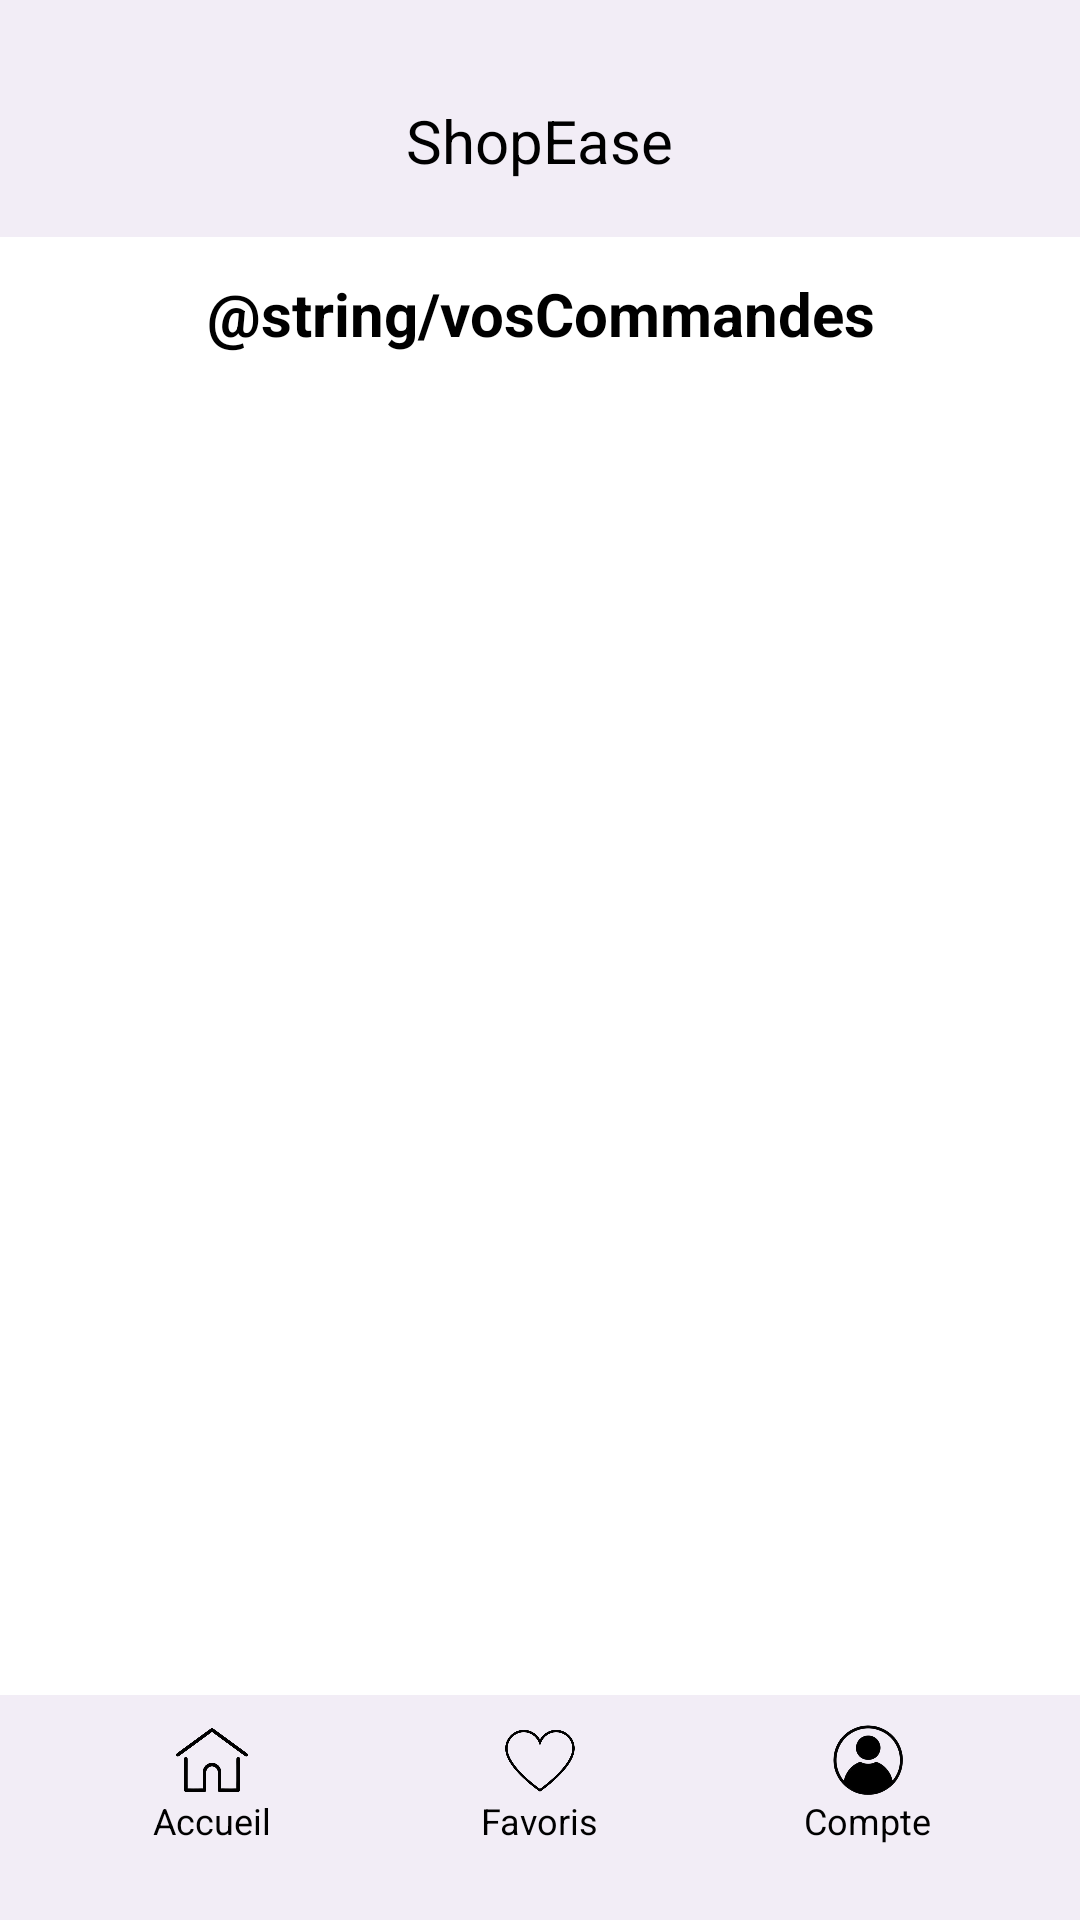

Screen size 1080px x 1920px. Icon name, then its box in pixels as box(x1, y1, x2, y2):
heart: box(505, 1730, 575, 1792)
